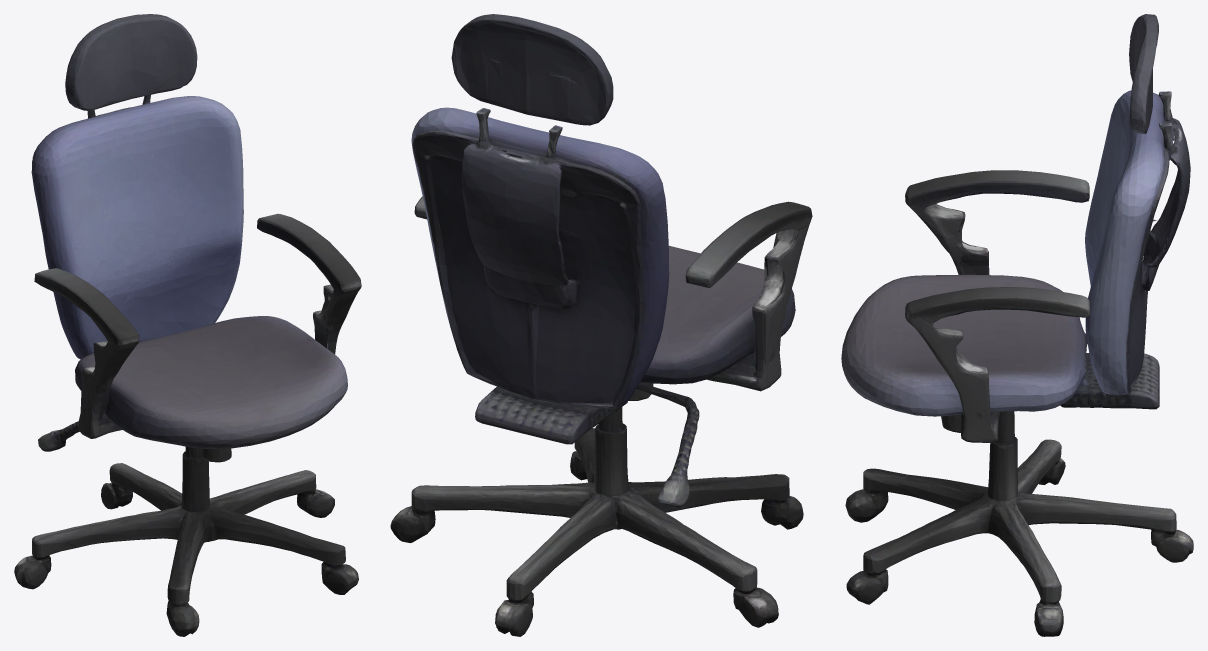
The picture shows the model from 3 angles, left to right: view 1: azimuth 30°, elevation 25°; view 2: azimuth 150°, elevation 25°; view 3: azimuth 270°, elevation 25°; orthographic projection. The views are drawn at different scales.
Visible parts, largest first — view 1: world; view 2: world; view 3: world.
Part boxes in pixels (x1,y1,x2,y2): world: (14, 14, 361, 636); world: (390, 14, 812, 636); world: (841, 14, 1193, 636).
Size of the model in its own units: 0.667 by 1 by 0.6001.
1 material, 1 textured.
